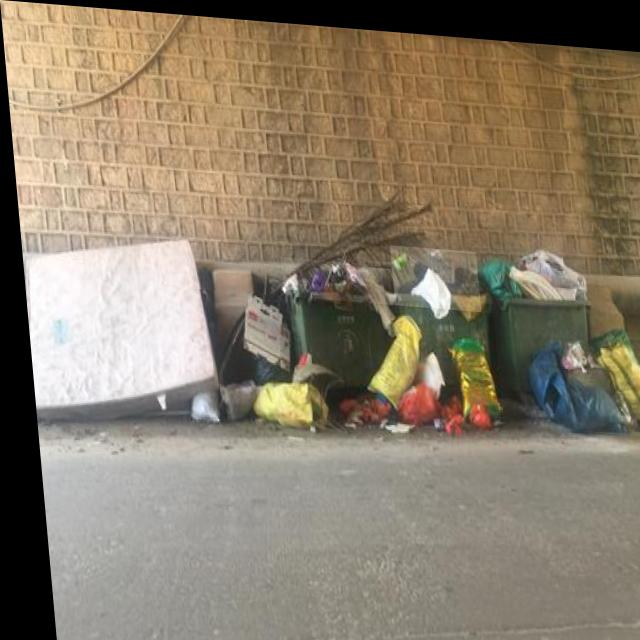garbage: (173, 285, 498, 434), (521, 316, 640, 428)
overflow: (471, 235, 590, 386), (386, 239, 493, 382), (276, 252, 386, 381)
